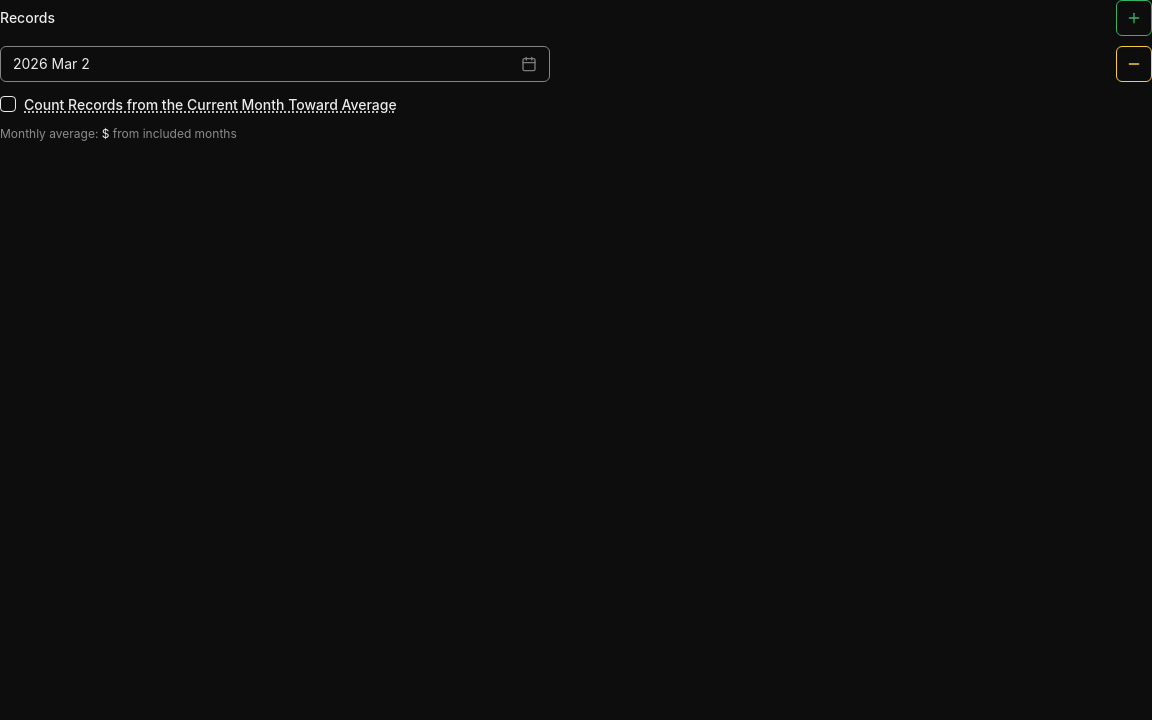
Test: AverageRecordsEditor › pages the calendar month while a monthly record datepicker is open
Later steps or results of the test are not shown.
What coordinates should you click on to do the following:
click the button "2026 Mar 2"
I would click on:
 (51, 64)
Its box is [0,46,550,82].
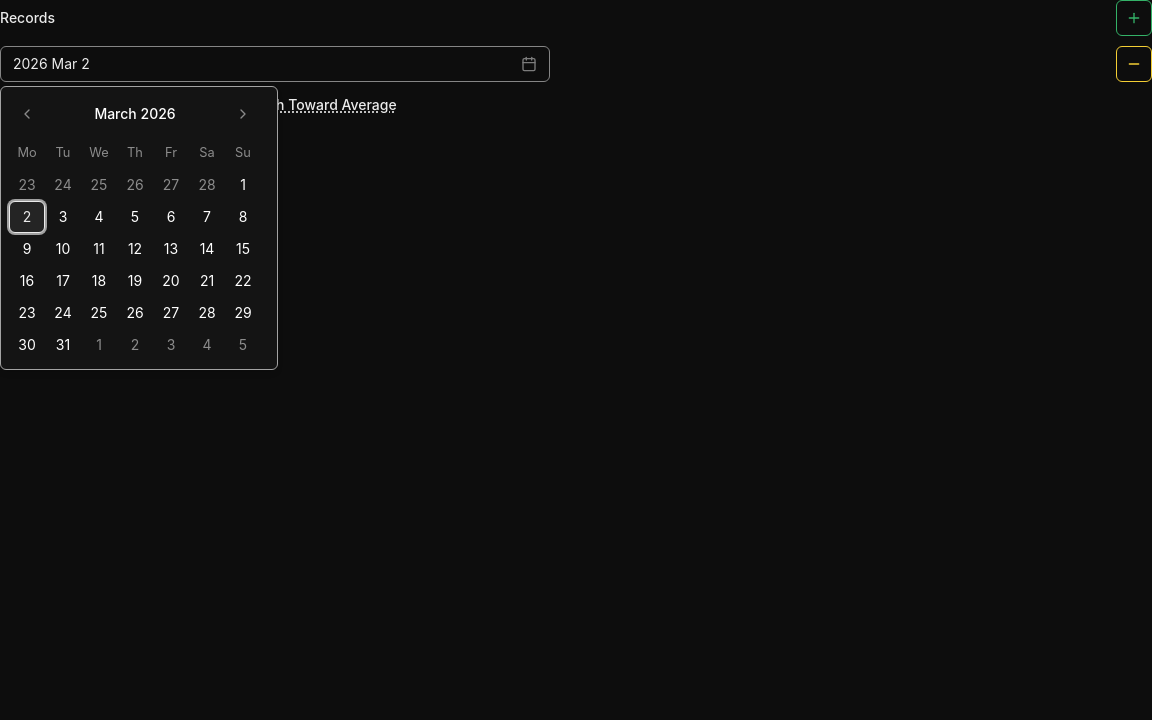
Expected: the button named "next-month" is shown
What coordinates should you click on to do the following:
click the button named "next-month"
I would click on:
 (243, 114)
Its box is [229,100,257,128].
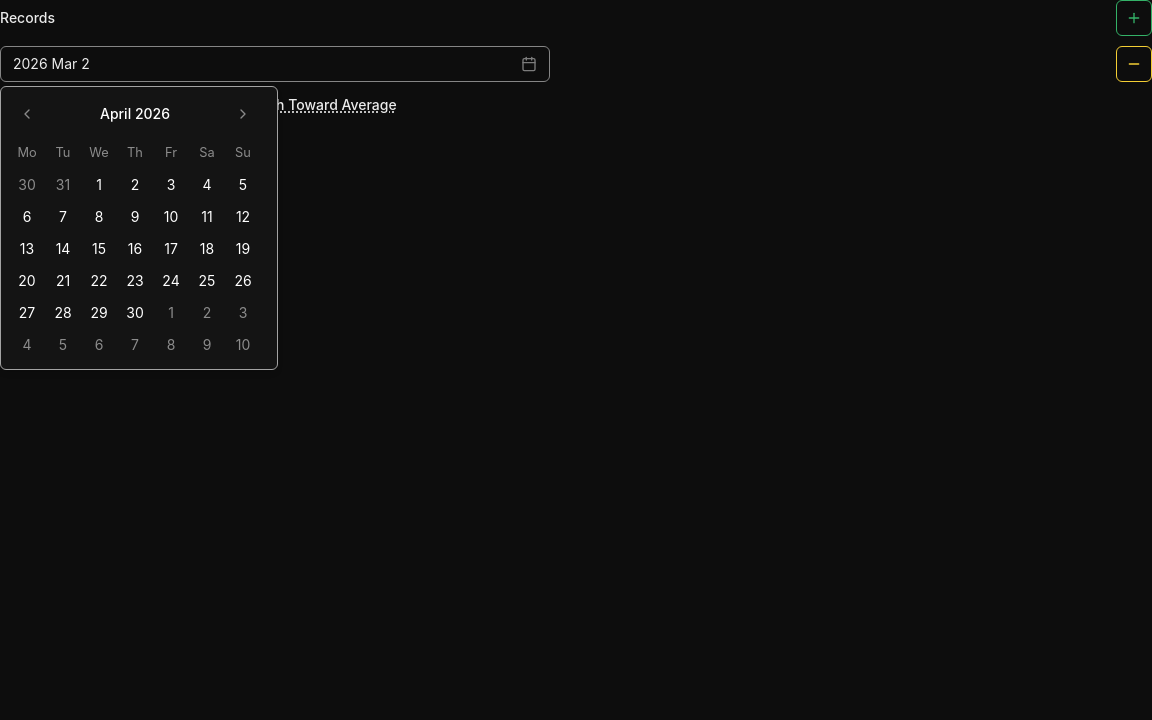
Expected: the button named "previous-month" is shown, [13,100,41,128]
Expected: the text "April 2026" is shown, [91,99,179,129]
